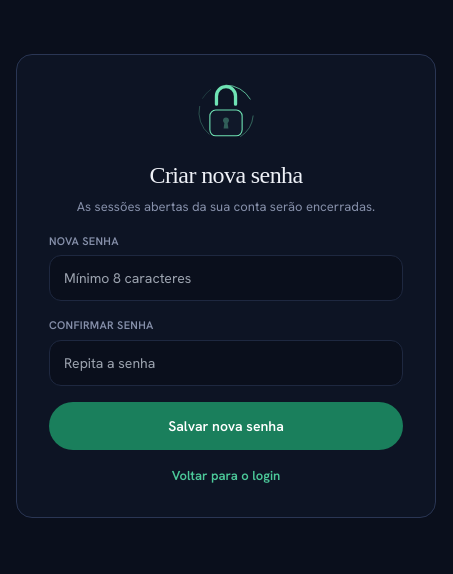
Test: ResetPassword › explica o que fazer quando o link expirou
This screenshot has width=453, height=574.
Type "NovaSenha123" into the password field labelled "NOVA SENHA".
click(226, 278); type("NovaSenha123")  # box [49,255,403,301]
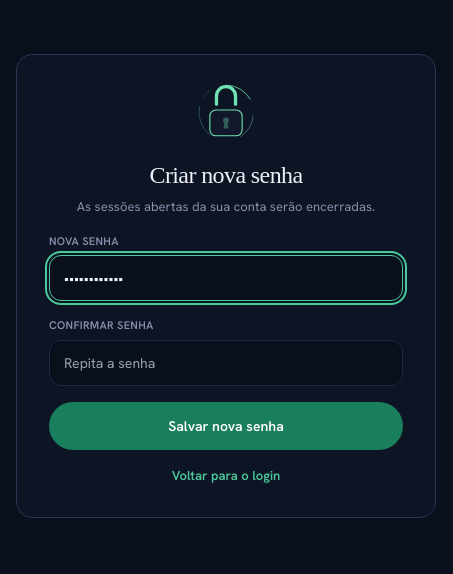
Type "NovaSenha123" into the password field labelled "CONFIRMAR SENHA".
click(226, 362); type("NovaSenha123")  # box [49,340,403,386]
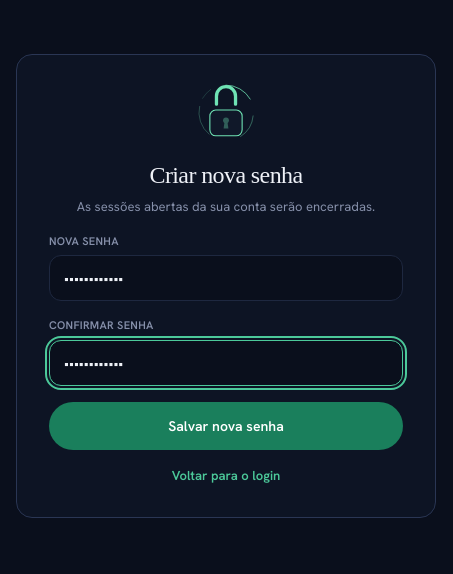
Click the button "Salvar nova senha".
click(226, 426)  # box [49,402,403,450]
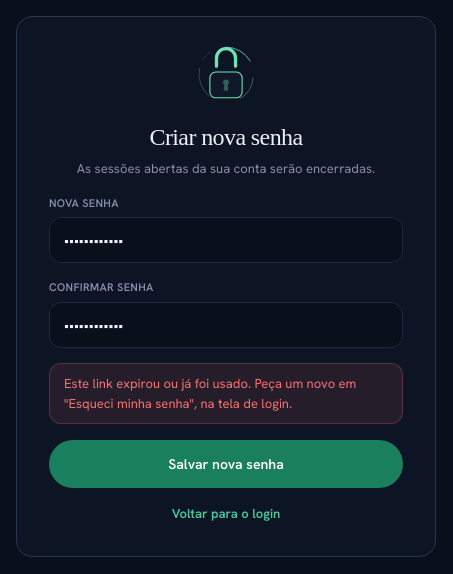
Check: the message shows "Esqueci minha senha", box [64,375,356,412]
